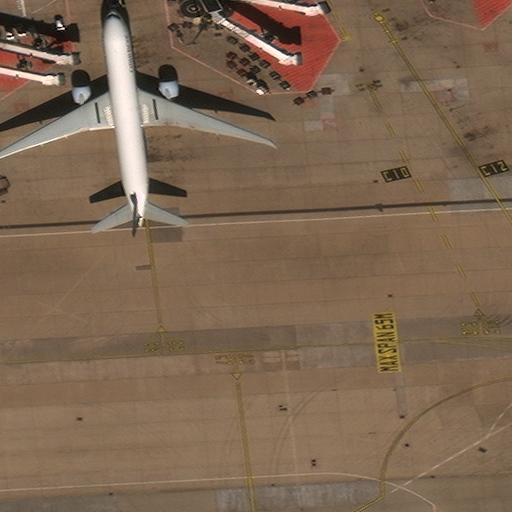Large Civil Transport: (0, 9, 271, 226)
